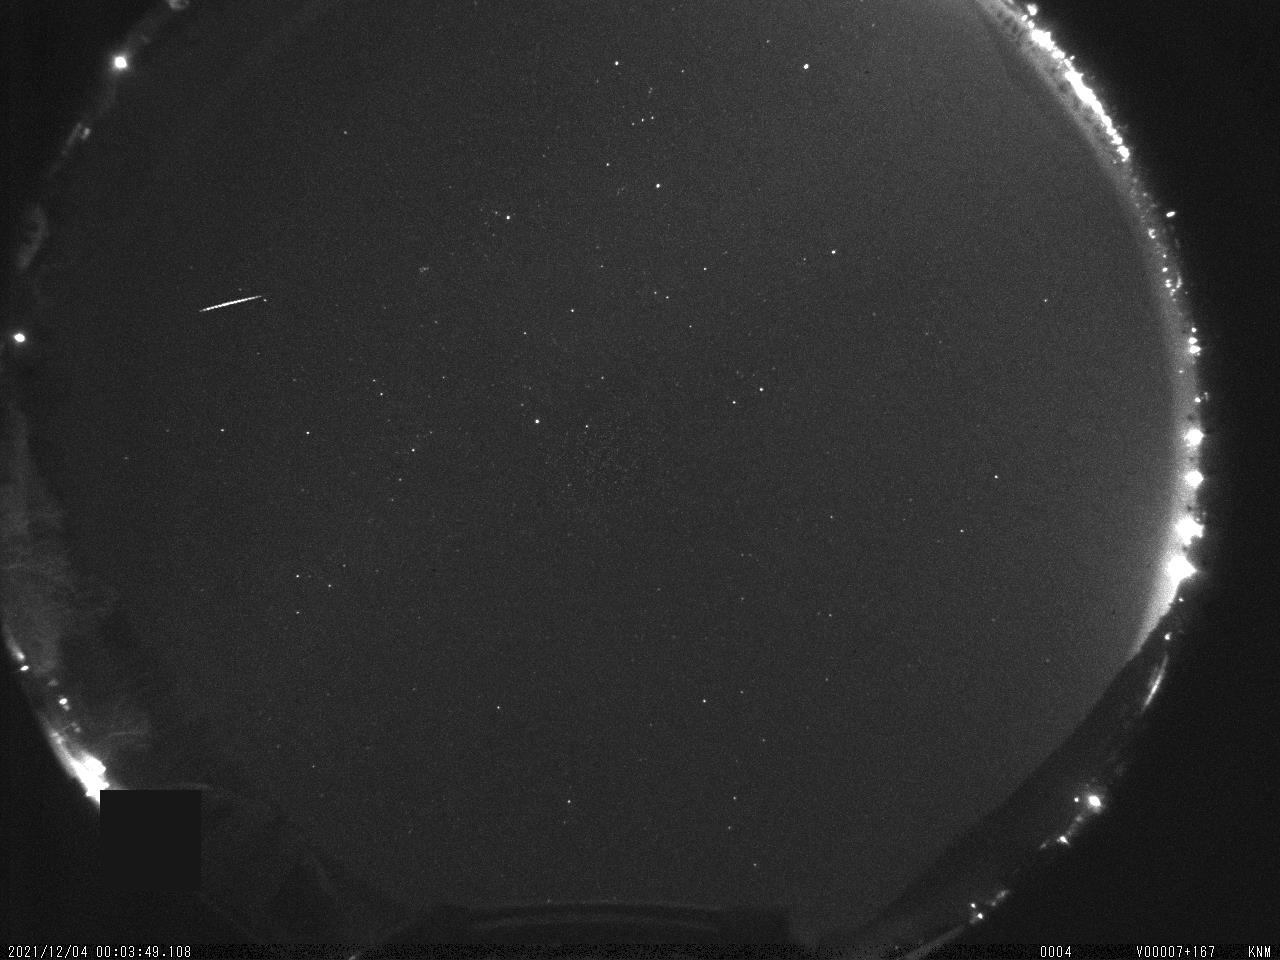meteor: (187, 285, 275, 316)
